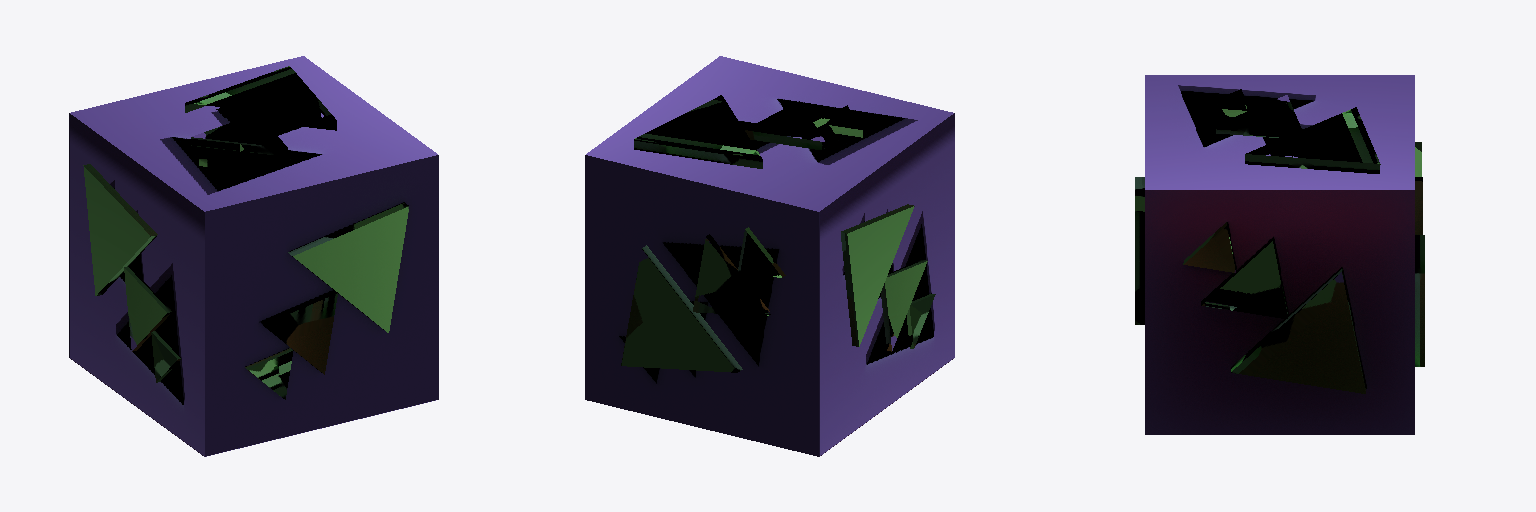
3 views of the same model, side by side, from view 1: azimuth 30°, elevation 25°; view 2: azimuth 150°, elevation 25°; view 3: azimuth 270°, elevation 25° (orthographic).
Parts seen in each view (by area): view 1: positive-speed_Cube.058; view 2: positive-speed_Cube.058; view 3: positive-speed_Cube.058.
Boxes of the visible parts, <box> form: positive-speed_Cube.058: <box>69,56,438,456</box>; positive-speed_Cube.058: <box>585,56,954,456</box>; positive-speed_Cube.058: <box>1135,75,1424,434</box>.
Size of the model in its own units: 2.15 by 2.17 by 2.15.
Materials: 2 (1 with a texture image).